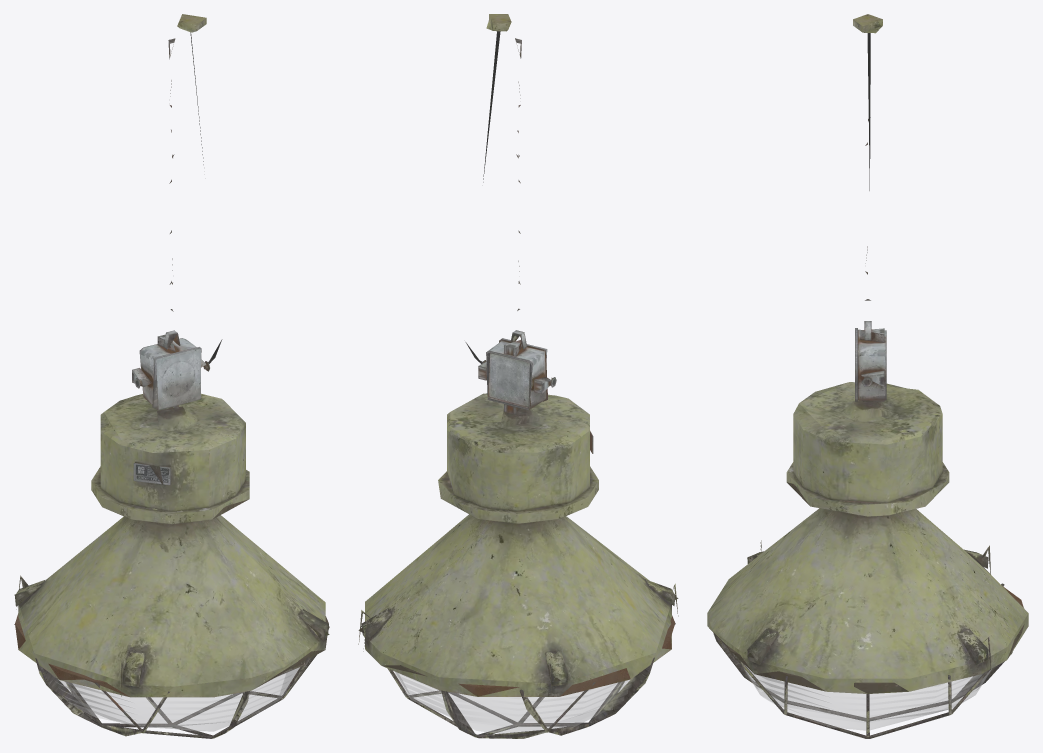
Rendered from hanging_industrial_lamp.glb.
3 views of the same model, side by side, from view 1: azimuth 30°, elevation 25°; view 2: azimuth 150°, elevation 25°; view 3: azimuth 270°, elevation 25° (orthographic).
Parts seen in each view (by area): view 1: hanging_industrial_lamp; view 2: hanging_industrial_lamp; view 3: hanging_industrial_lamp.
Boxes of the visible parts, left/top/right/bottom form: hanging_industrial_lamp: left=14, top=14, right=329, bottom=738; hanging_industrial_lamp: left=358, top=14, right=678, bottom=738; hanging_industrial_lamp: left=707, top=14, right=1028, bottom=738.
Size of the model in its own units: 0.5496 by 1.34 by 0.5496.
Materials: 2 (1 with a texture image).
